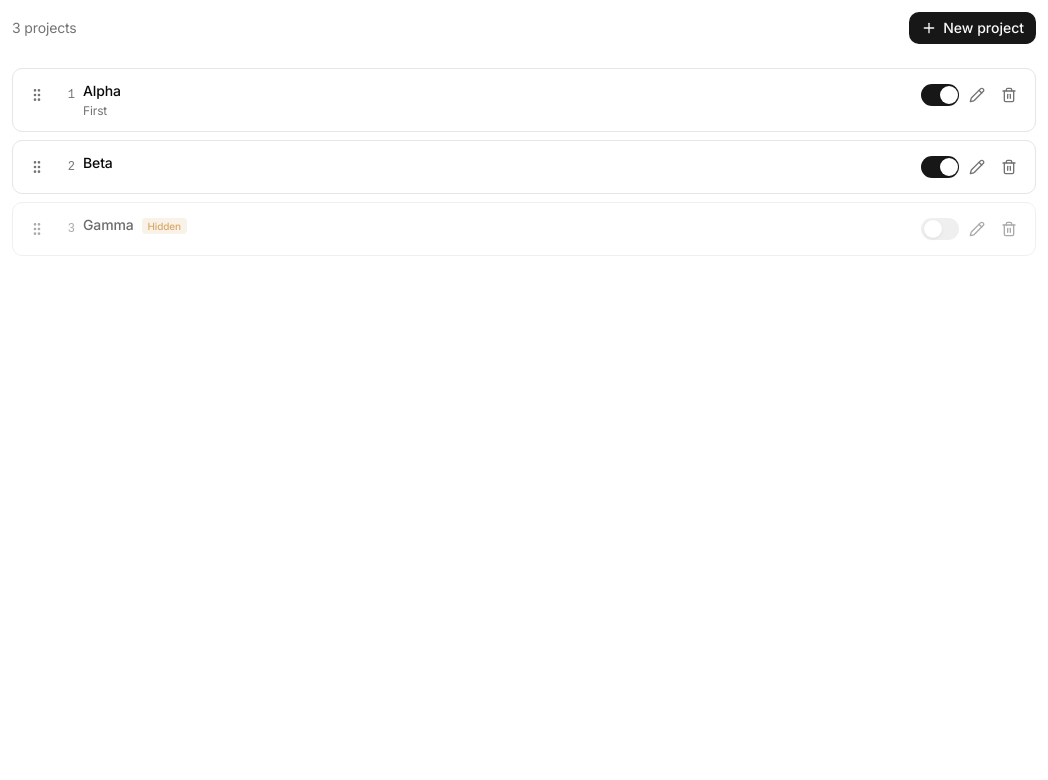
Scenario: visibility toggle › rolls back and reports when the toggle fails
Click the switch named "Hide Alpha" at (940, 95), box x1=921 y1=84 x2=959 y2=106
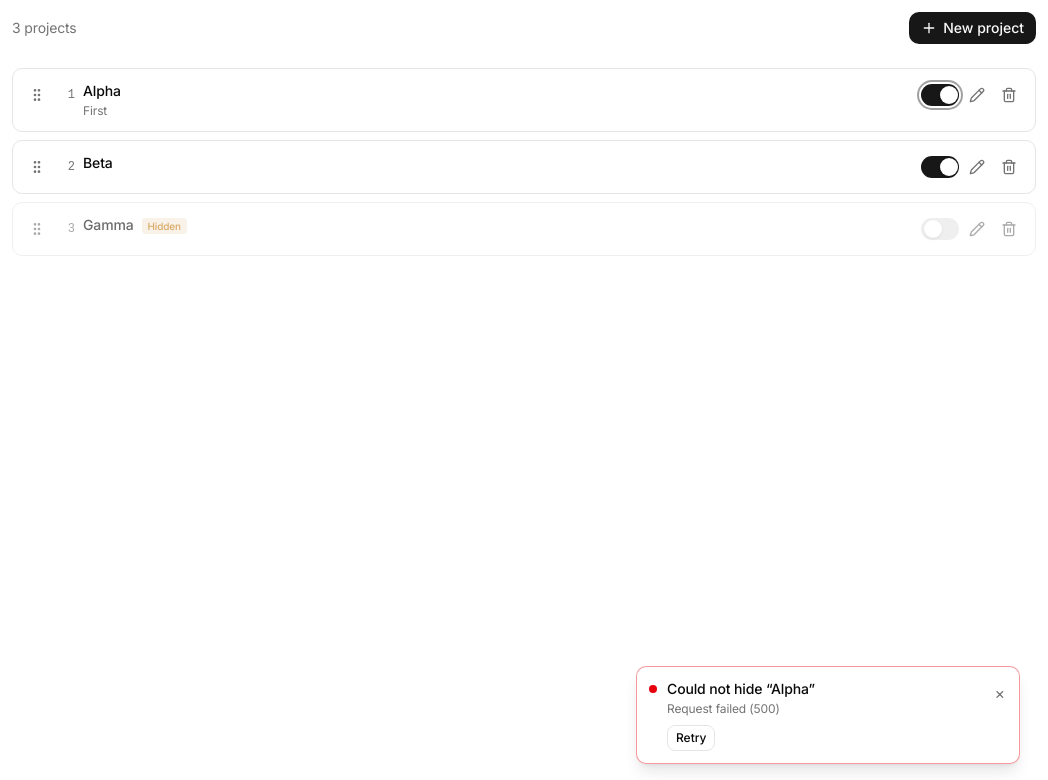
Check: the text "Could not hide “Alpha”" is shown, box x1=667 y1=680 x2=815 y2=697
